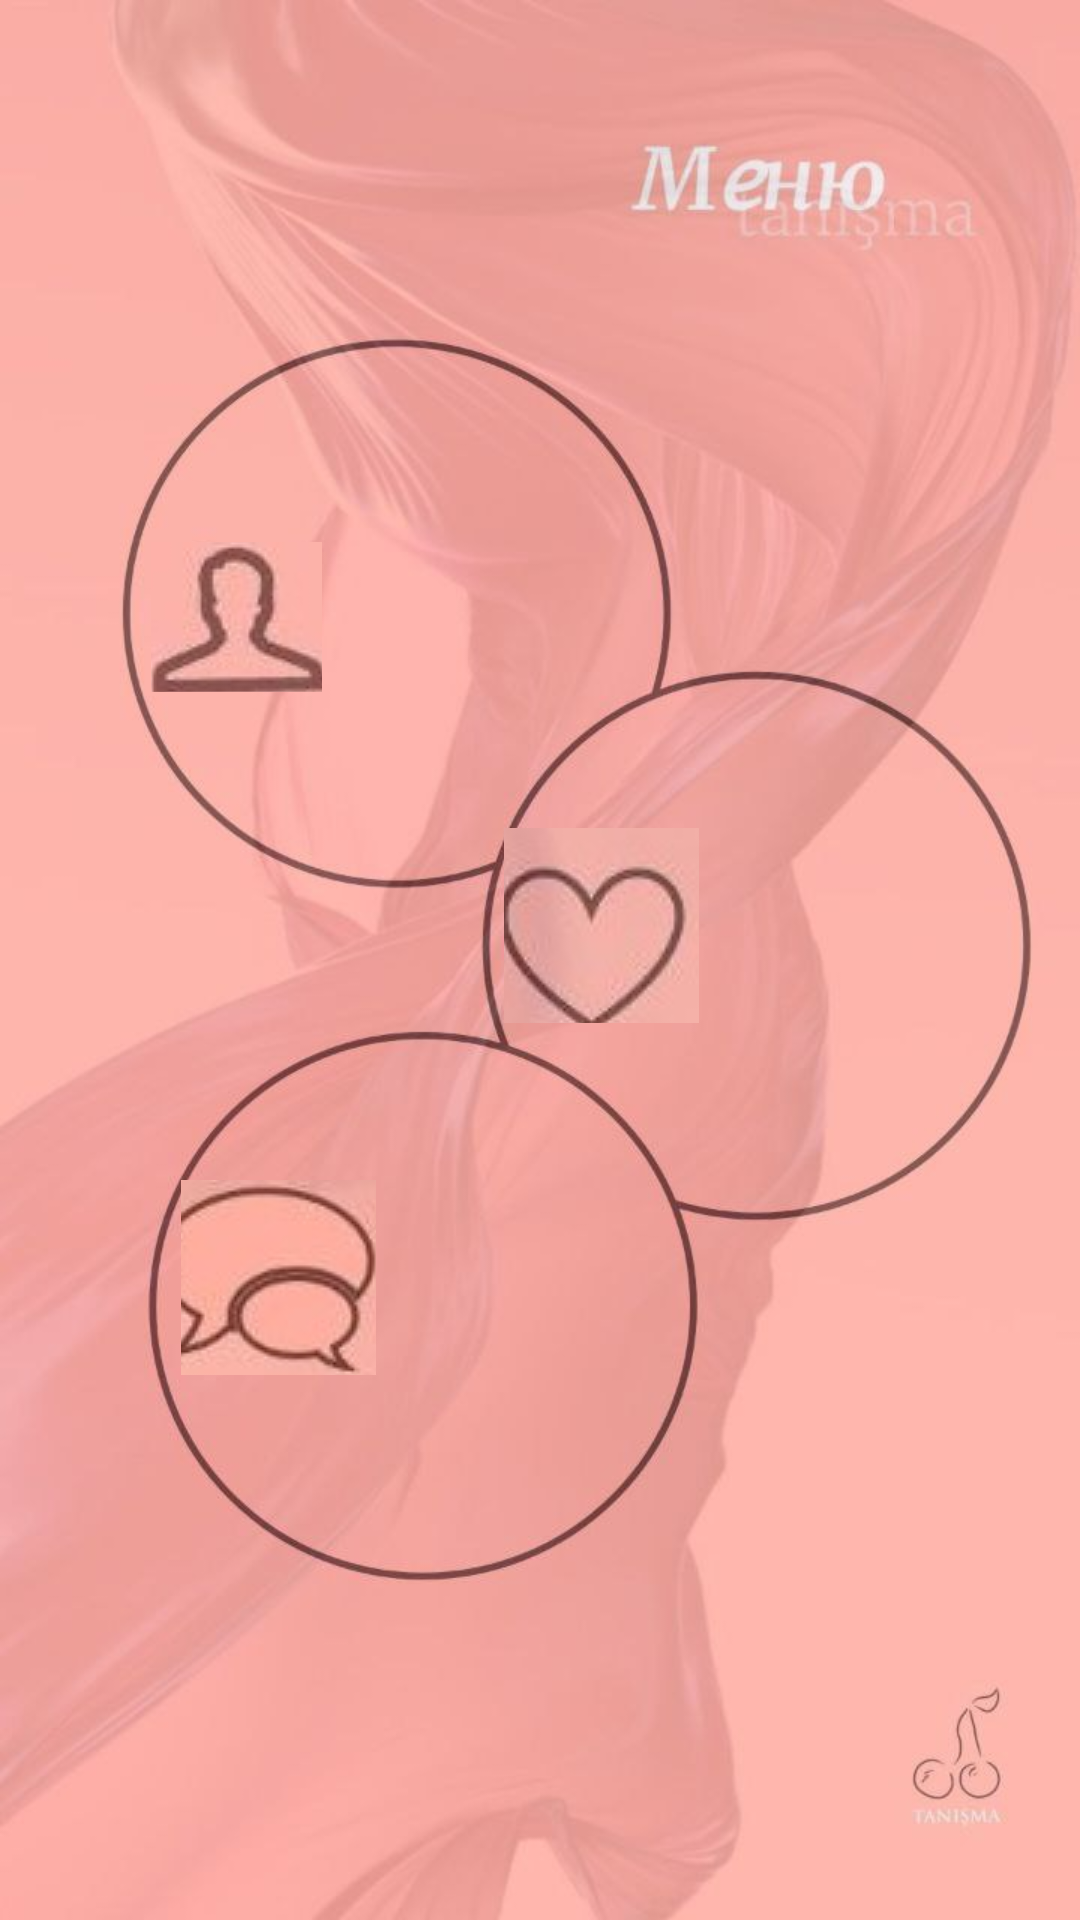

Point at icon controls on the screen. Image size 1080×1920, points as point (x, y).
Знакомится: point (601, 925)
Профиль: point (237, 619)
Чаты: point (278, 1277)
